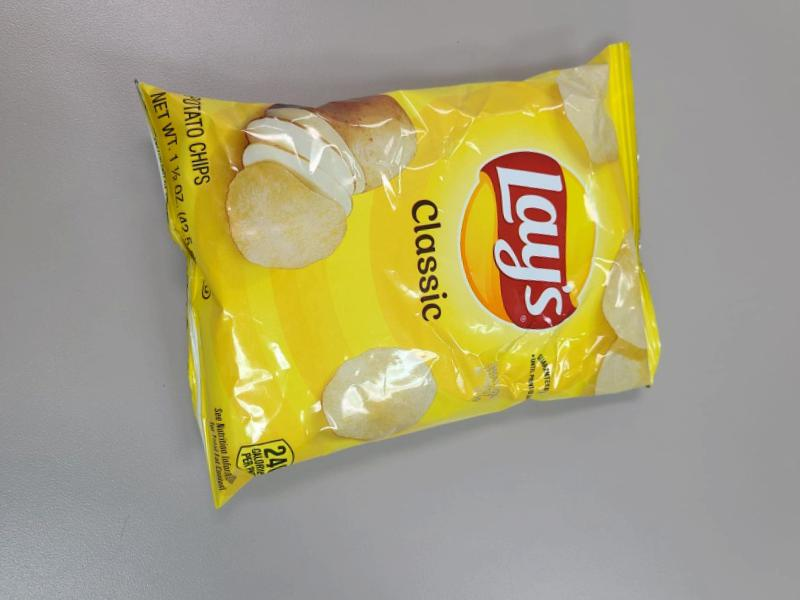lays: (226, 0, 677, 541)
